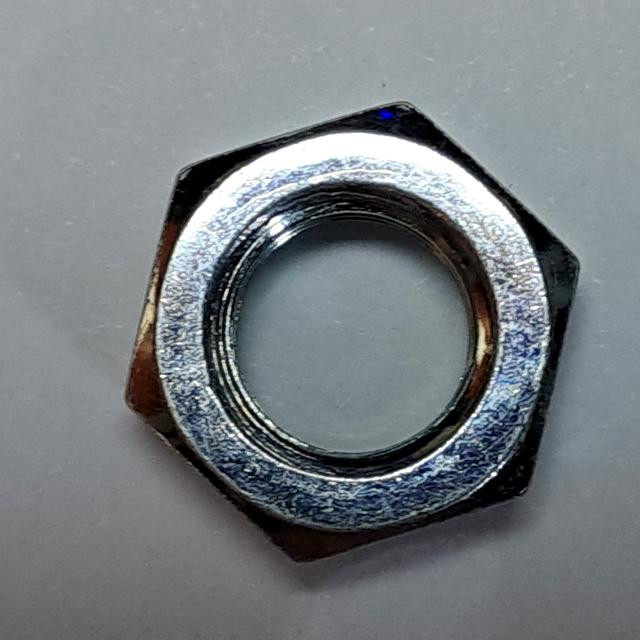Excellent: (106, 85, 606, 587)
